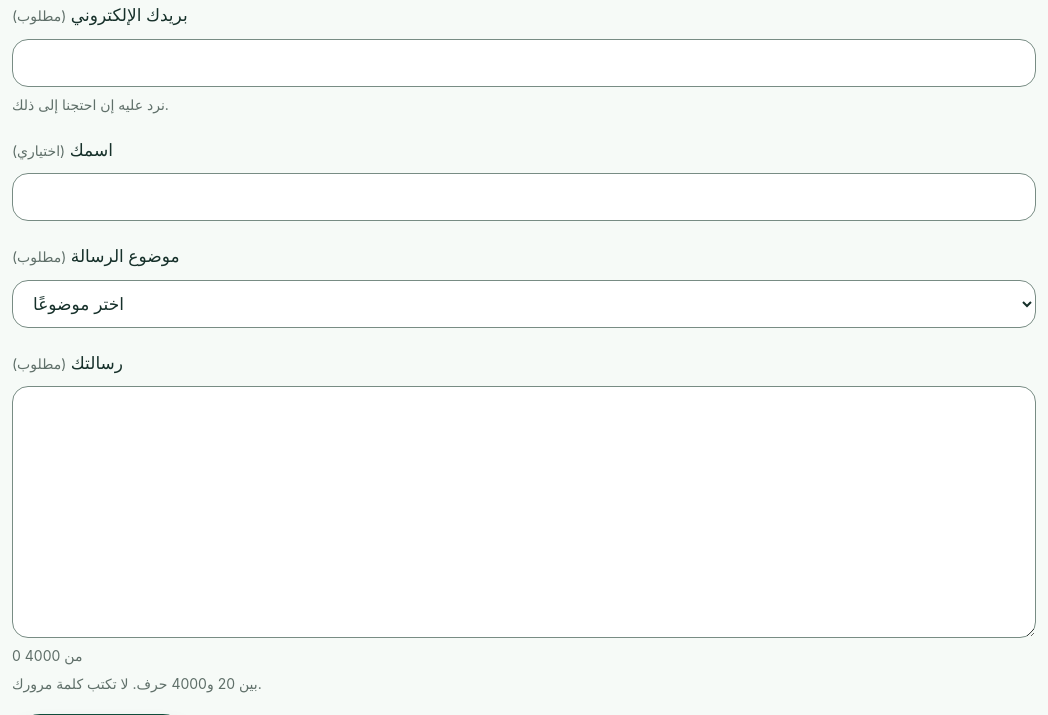
SupportForm › counts the characters of the message
Type "abc" into the text box labelled "رسالتك (مطلوب)" at coordinates (524, 512), box [12,386,1036,638]
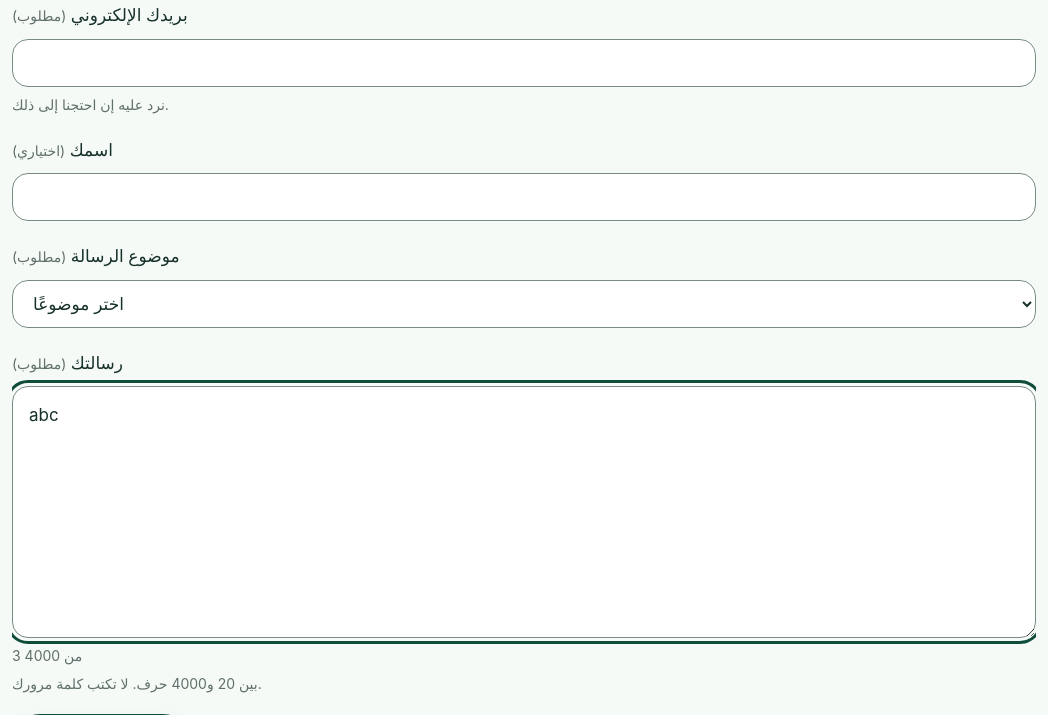
Now the text "3 من 4000" is shown, box [12,648,82,664]
